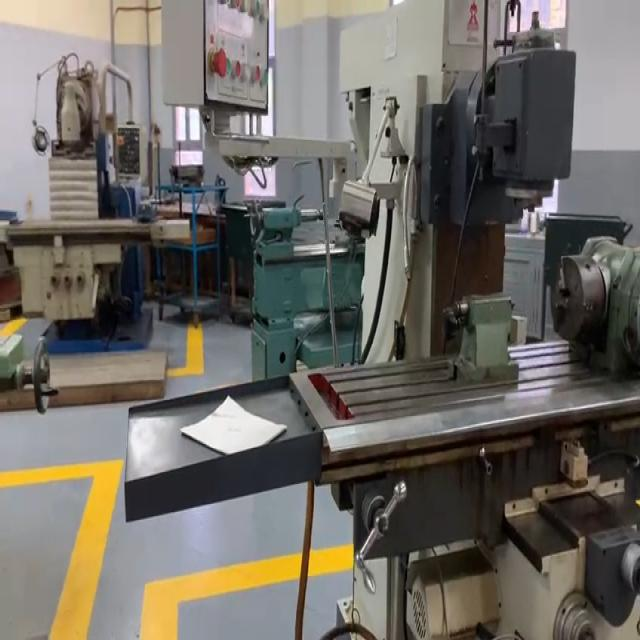fraiseuse: (122, 0, 640, 640)
